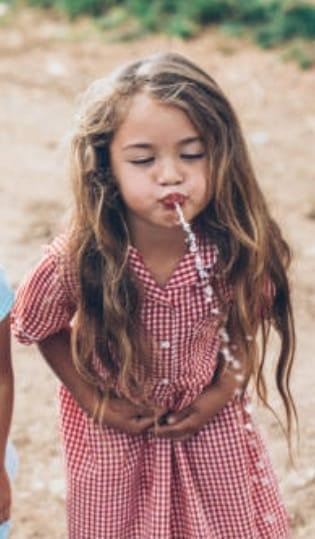Spitting: (73, 86, 300, 277)
